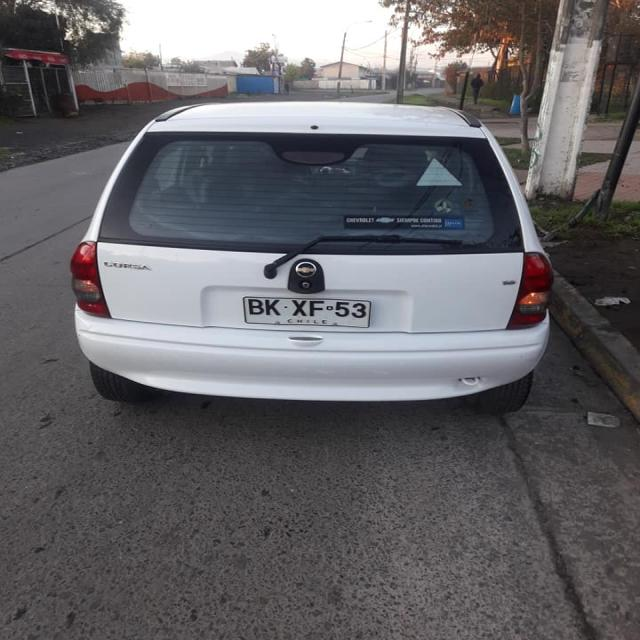patente: (241, 295, 371, 328)
